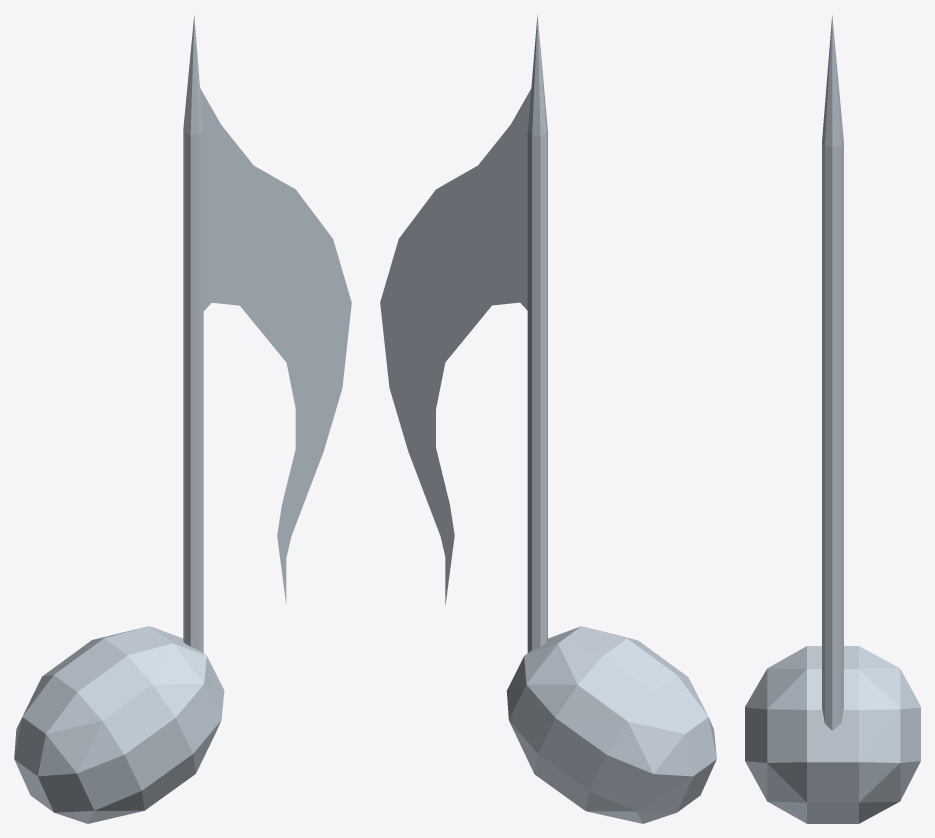
File: score.FBX
3 renders of one model, left to right at view 1: azimuth 30°, elevation 25°; view 2: azimuth 150°, elevation 25°; view 3: azimuth 270°, elevation 25°, orthographic. The views are drawn at different scales.
Parts seen in each view (by area): view 1: VIFS001; view 2: VIFS001; view 3: VIFS001.
Part boxes in pixels (x1,y1,x2,y2): VIFS001: (14, 16, 351, 823); VIFS001: (380, 14, 716, 823); VIFS001: (745, 15, 920, 823).
Size of the model in its own units: 0.279 by 0.633 by 0.119.
